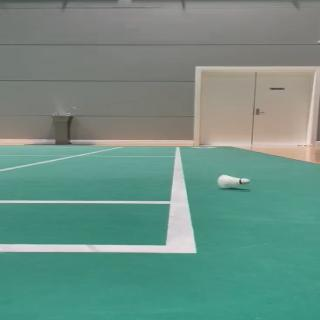Shuttle: (218, 175, 250, 188)
